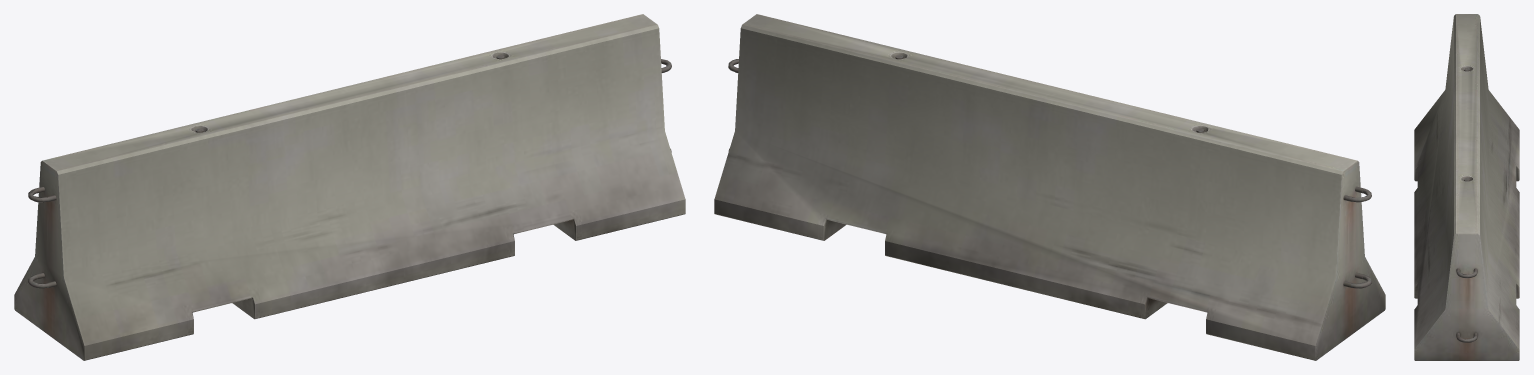
The model's file is jersey-barrier.glb.
3 views of the same model, side by side, from view 1: azimuth 30°, elevation 25°; view 2: azimuth 150°, elevation 25°; view 3: azimuth 270°, elevation 25° (orthographic). The views are drawn at different scales.
Visible parts, largest first — view 1: jersey-barrier_body; view 2: jersey-barrier_body; view 3: jersey-barrier_body.
Part boxes in pixels (x1,y1,x2,y2): jersey-barrier_body: (14,14,685,360); jersey-barrier_body: (714,14,1385,360); jersey-barrier_body: (1414,14,1519,360).
Bounding box in the file's own units: 3.19 × 0.8106 × 0.6049.
Materials: 1 (1 with a texture image).
